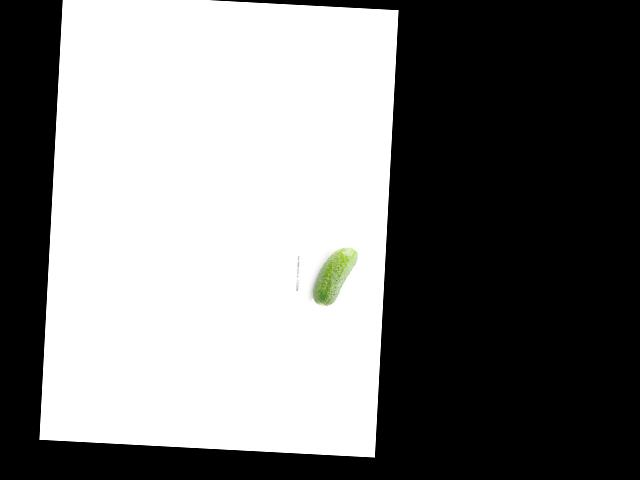cucumber: (311, 246, 358, 307)
